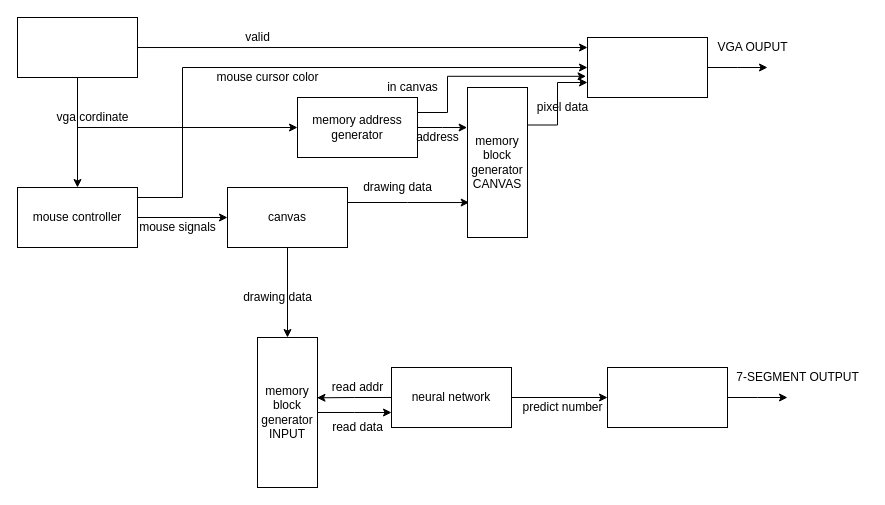
Image size: 885x505. Some labels were removed from this diagram. Here are the shapes that lost their labels. From the top down, the centre of each, then its label:
point 77,47: vga controller
point 647,67: pixel generater
point 667,397: 7-segment display
